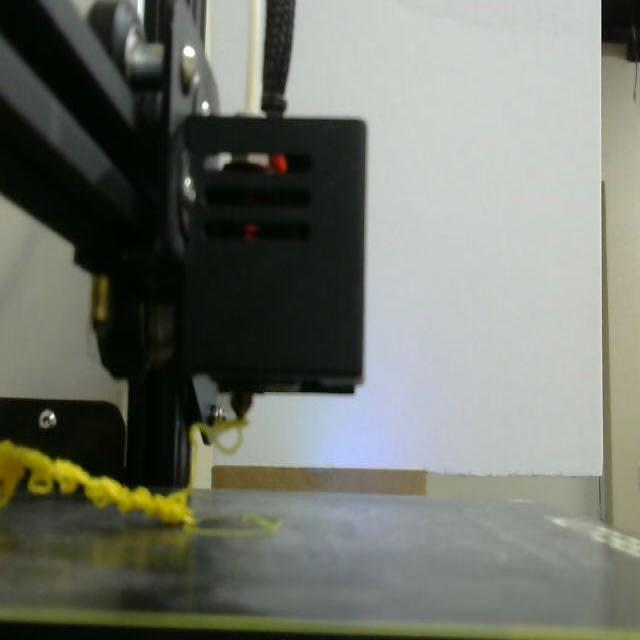spaghetti: (0, 440, 194, 524)
